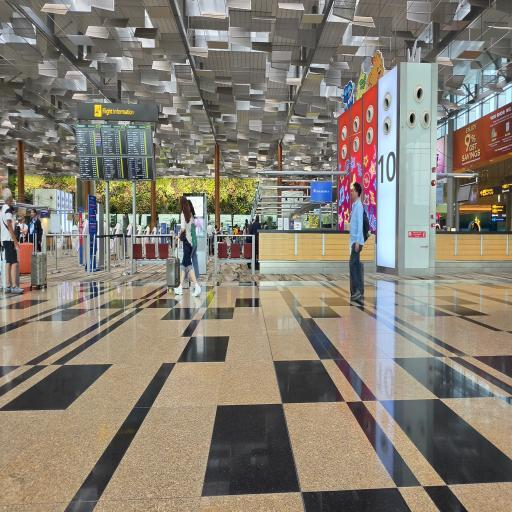person_with_luggage_left: (164, 194, 202, 303), (346, 177, 370, 307)
